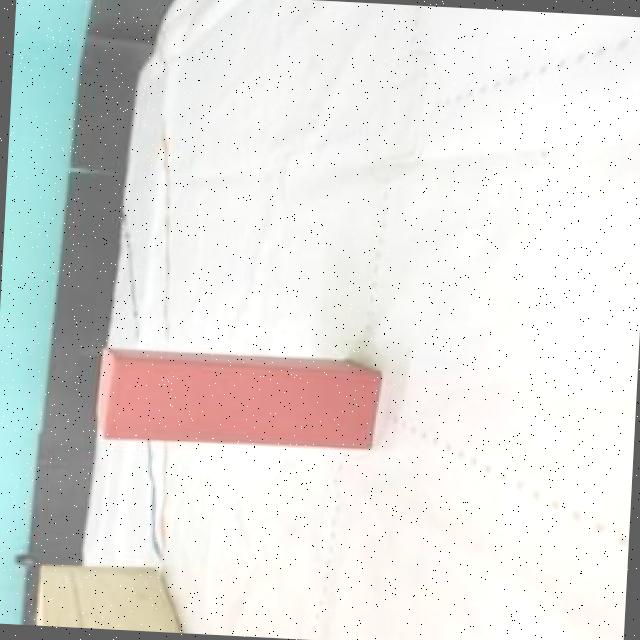redbox: (95, 342, 388, 454)
